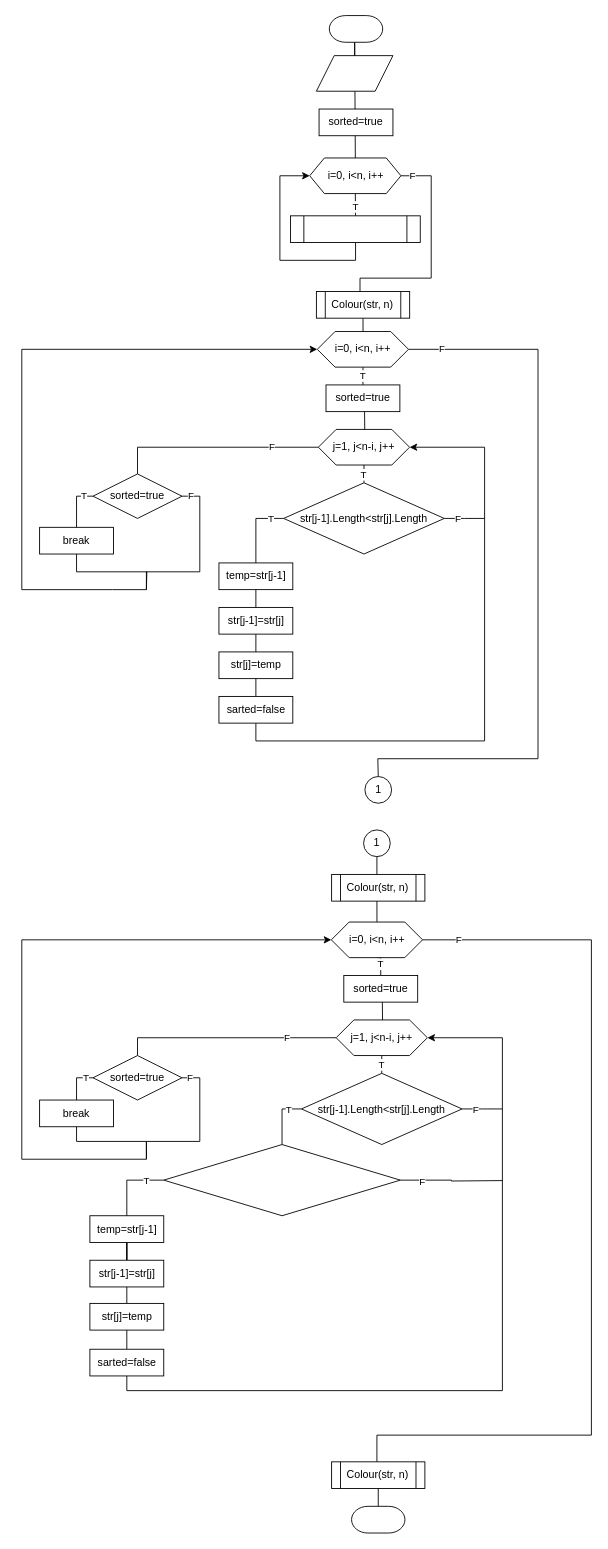
Some shapes in this 608 by 1549 pixel diagram are drawn without their labels. The box of each missing label's shape, as (x1, y1, x2, y2) in pixels:
end: (351, 1505, 405, 1533)
int.Parse(str[j-1])<int.Parse(str[j].Length): (163, 1144, 400, 1216)
n є N arr[n] є N: (316, 55, 393, 91)
start: (328, 15, 383, 42)
str[i]=arr[i].ToString(): (290, 215, 420, 243)
